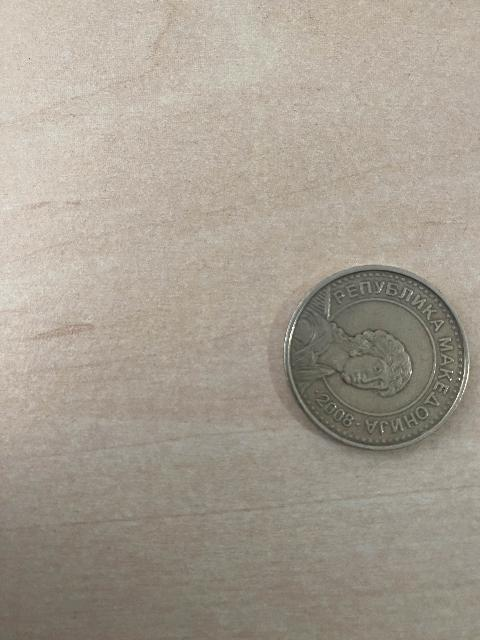coin: (286, 262, 468, 446)
